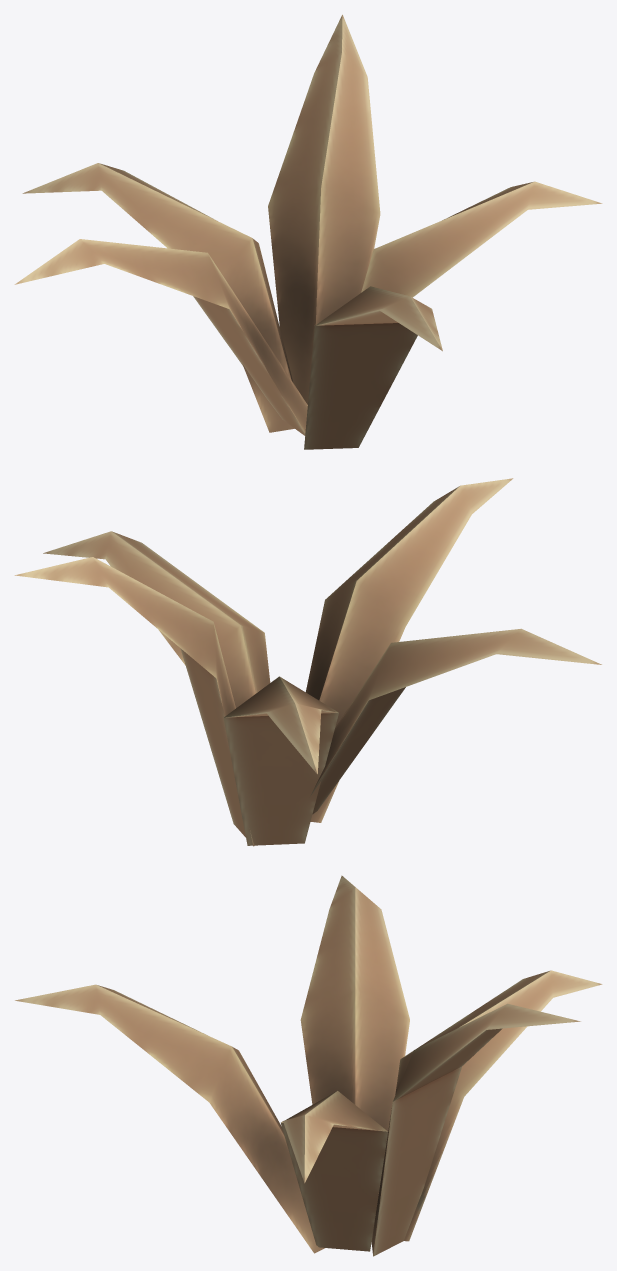
The model's file is Grass_5.fbx.
The picture shows the model from 3 angles, top to bottom: view 1: azimuth 30°, elevation 25°; view 2: azimuth 150°, elevation 25°; view 3: azimuth 270°, elevation 25°; orthographic projection. The views are drawn at different scales.
Visible parts, largest first — view 1: Grass_5; view 2: Grass_5; view 3: Grass_5.
Part boxes in pixels (bbox=[...]): Grass_5: bbox=[14, 14, 602, 449]; Grass_5: bbox=[14, 478, 601, 846]; Grass_5: bbox=[15, 875, 602, 1256].
Size of the model in its own units: 20.38 by 10.32 by 19.01.
